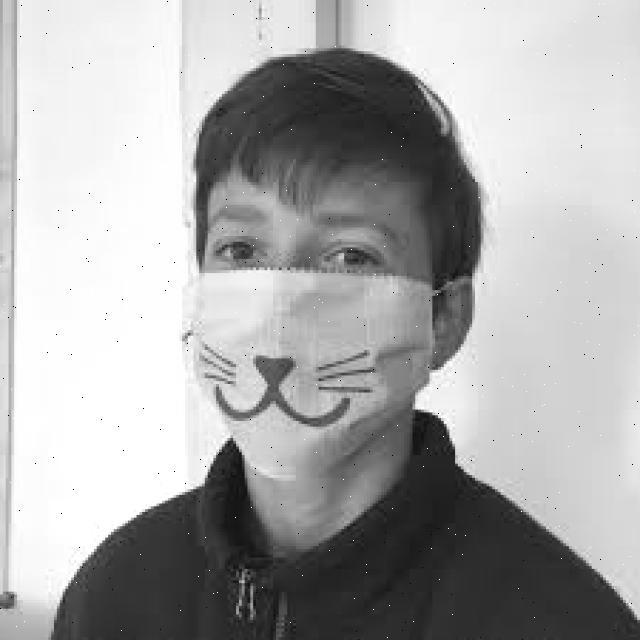fake: (178, 272, 438, 485)
real: (202, 175, 441, 492)
